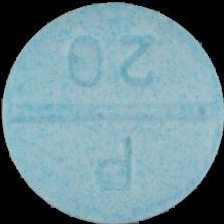63629-2570: (0, 0, 224, 224)
